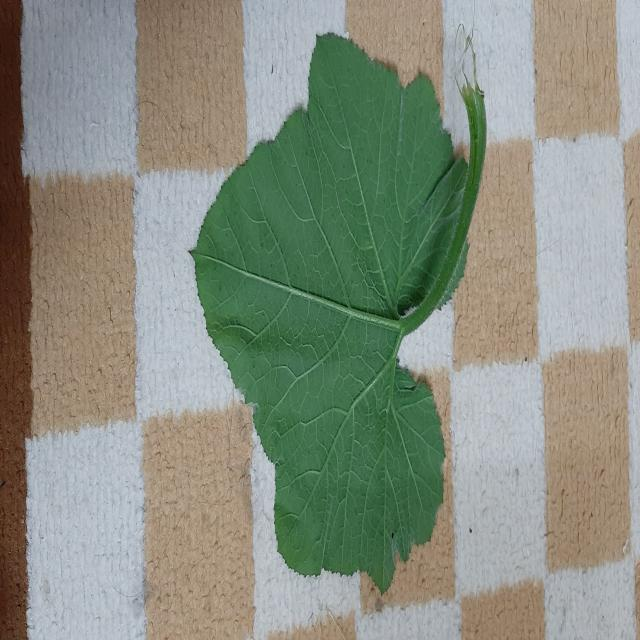pumpkin: (192, 35, 486, 591)
